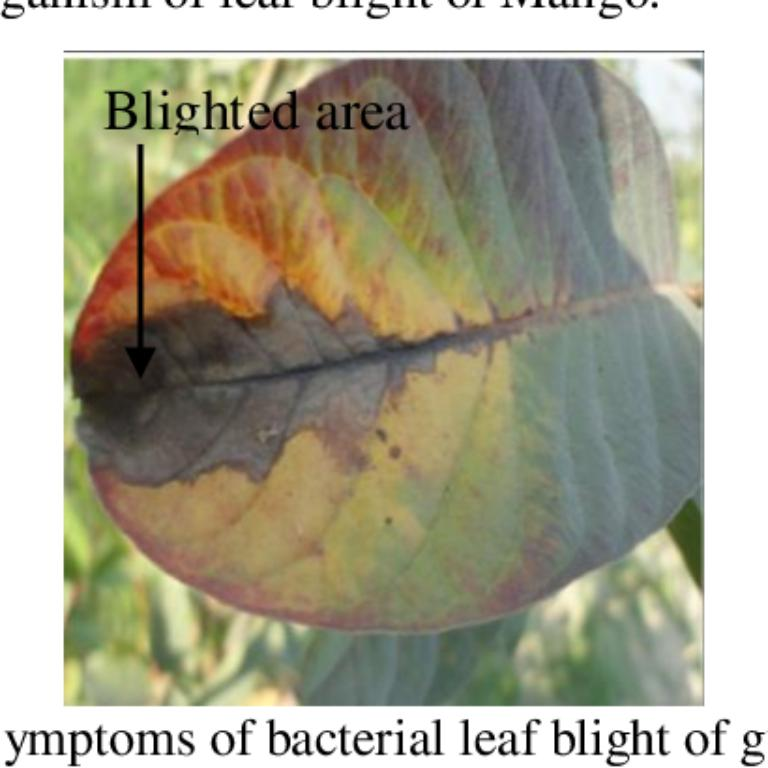blight: (158, 287, 444, 497)
